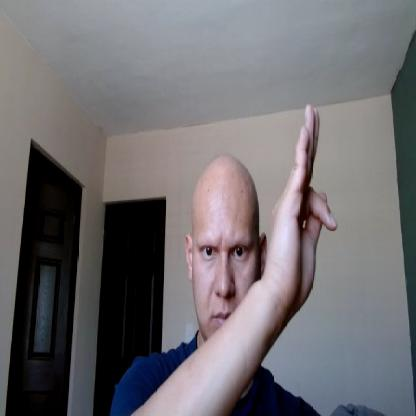F: (266, 102, 337, 307)
